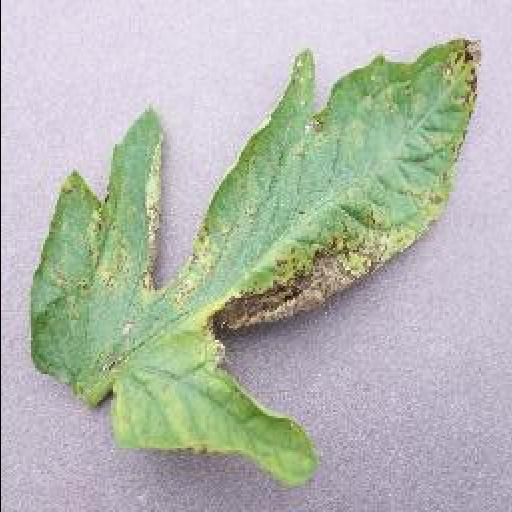disease_tomato: (31, 36, 485, 484)
